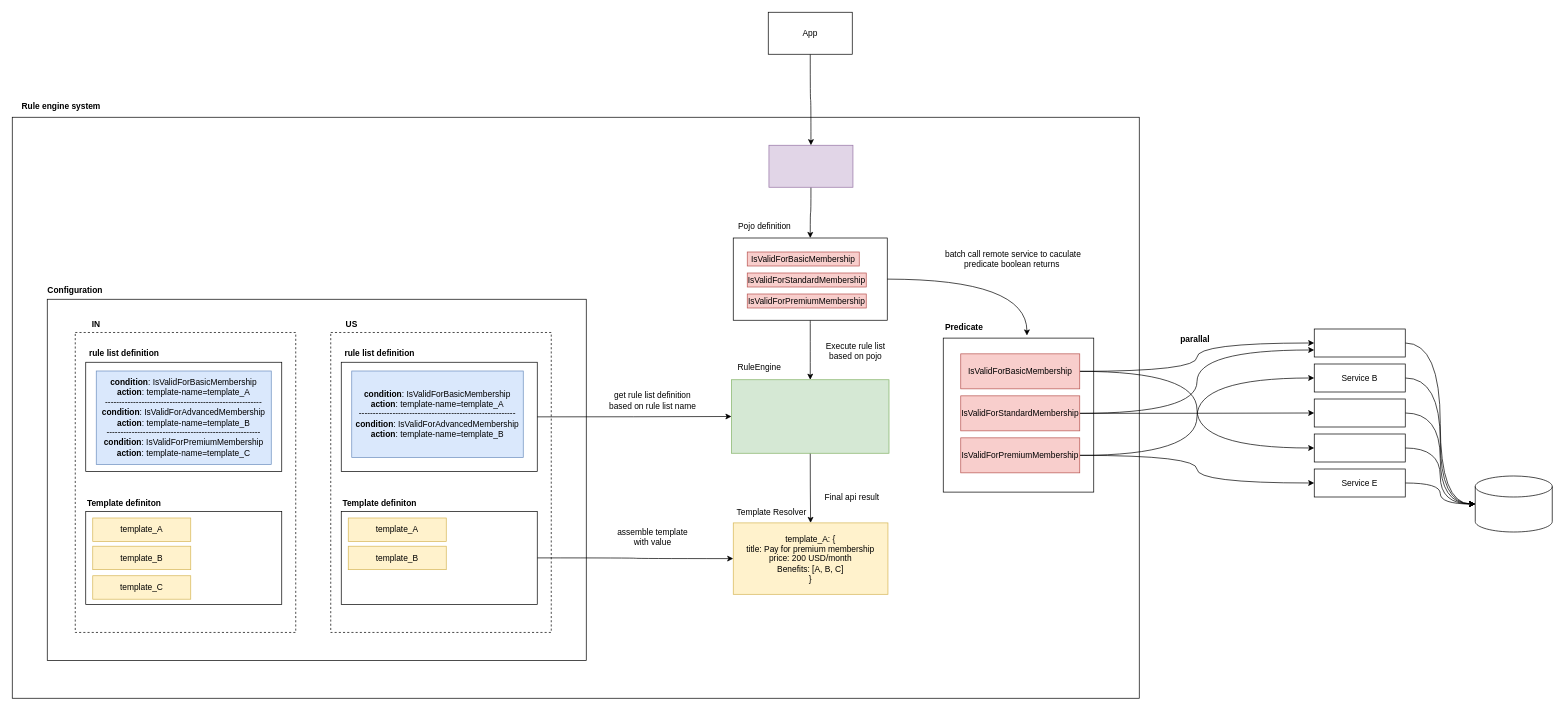
Some shapes in this 1565 by 711 pixel diagram are drawn without their labels. Here are the shapes that lost their labels. From the top down, the box of each, then its label:
(768, 145, 853, 187): GetContent
(1314, 328, 1405, 357): Service A
(731, 379, 889, 453): EasyRule (open-source)
(1314, 398, 1405, 427): Service C
(1314, 433, 1405, 462): Service D
(1475, 475, 1552, 532): Database
